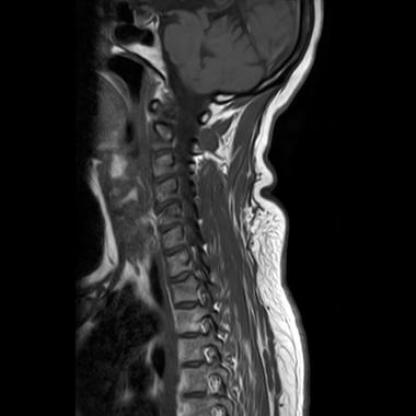Disc Bulgerotation: (156, 220, 183, 236)
Disc Protrusionrotation: (152, 195, 180, 214), (163, 242, 189, 259)
